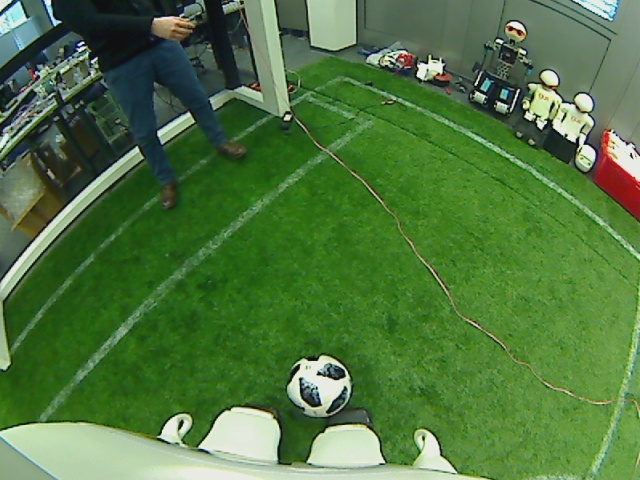ball: (282, 354, 354, 417)
